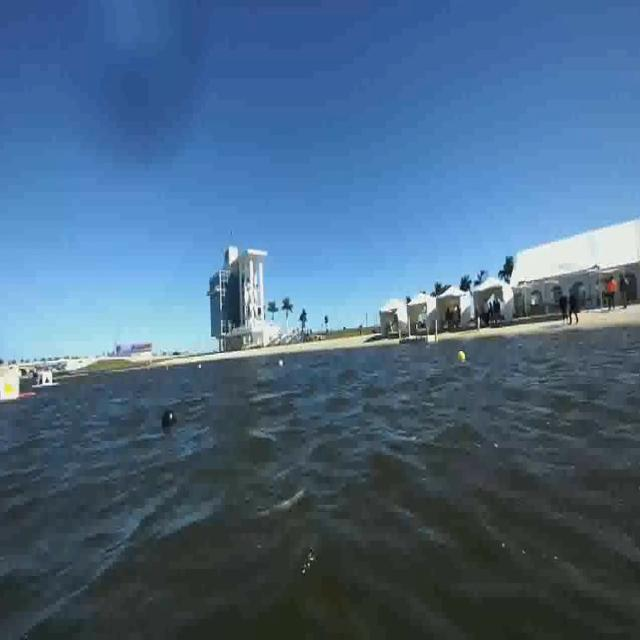black-buoy: (160, 407, 178, 432)
yellow-buoy: (458, 349, 468, 364)
